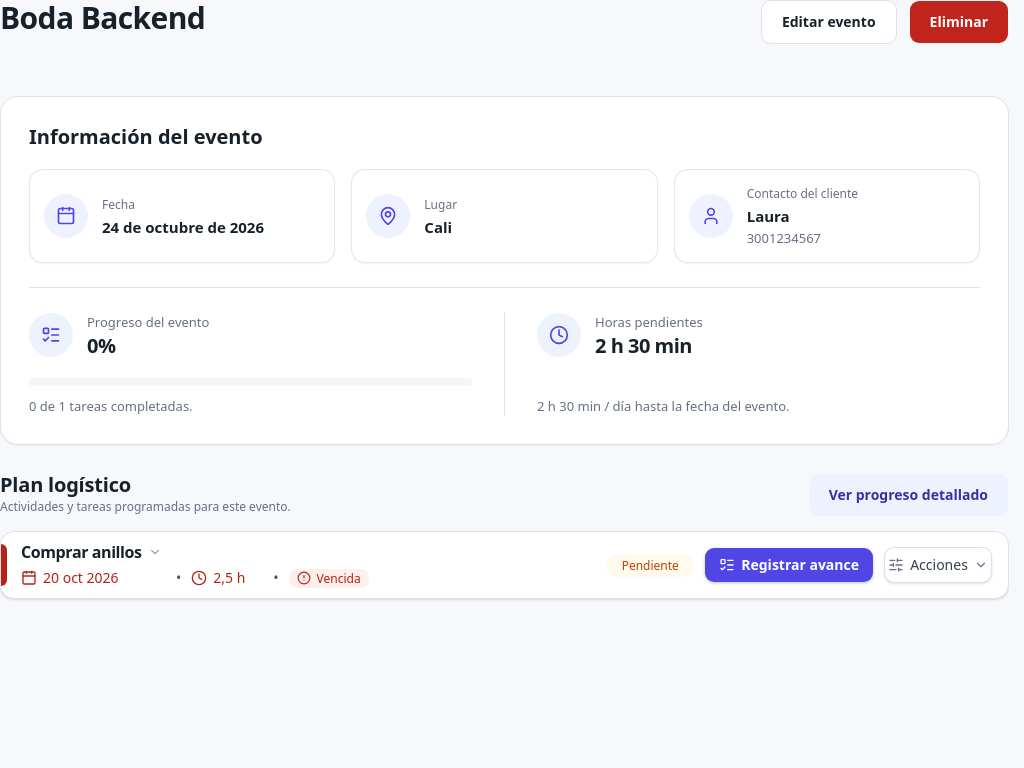
Scenario: EventDetailContent › abre el diálogo de Reprogramar desde el menú de acciones (CA-03)
Step 1. Click the button with aria-label "Más acciones para Comprar anillos" → (938, 565), box x1=884 y1=547 x2=992 y2=583
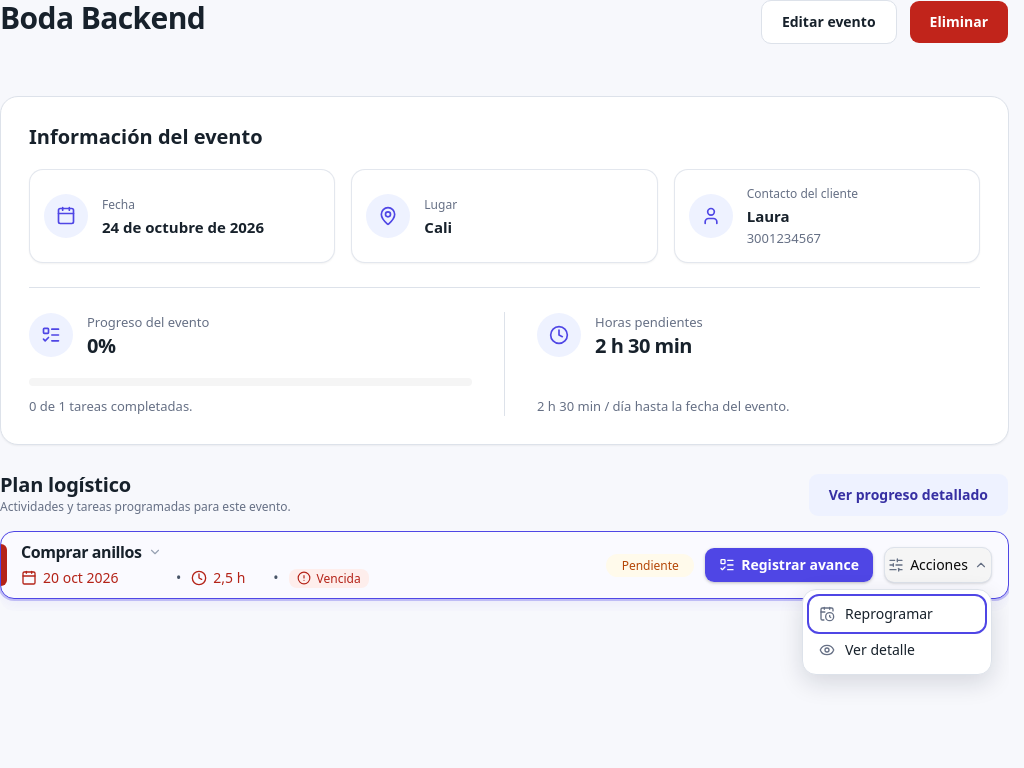
Step 2. Click the menu item with aria-label "Reprogramar Comprar anillos" → (897, 614), box x1=809 y1=596 x2=985 y2=632
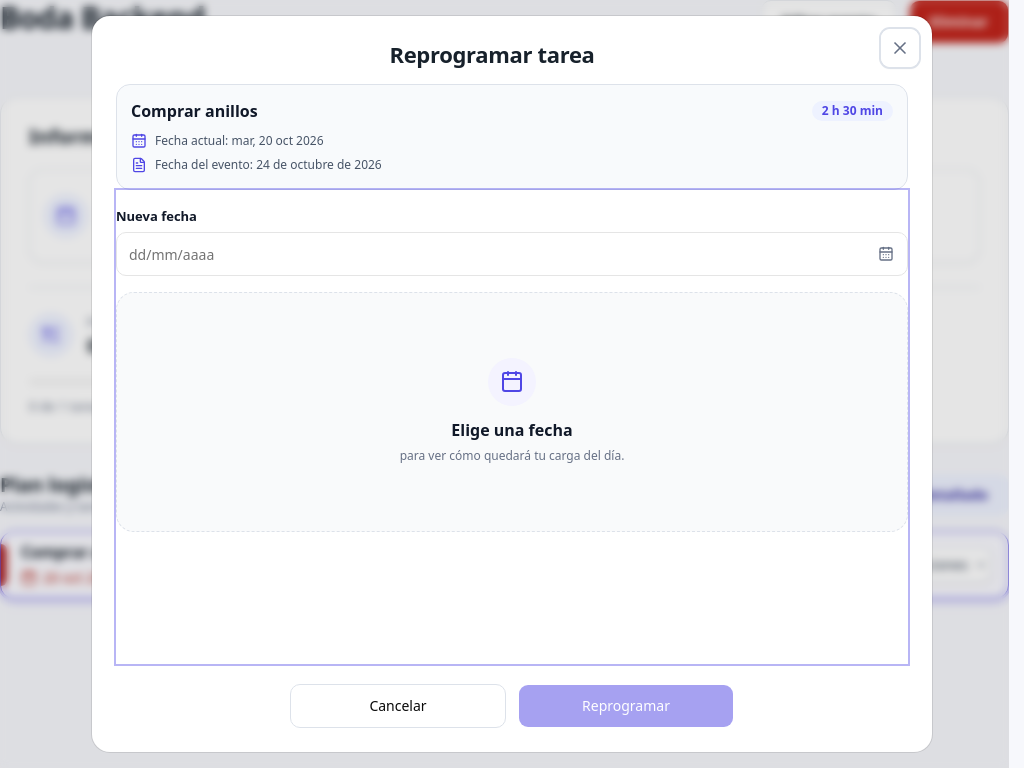
expect the heading "Reprogramar tarea" is shown: met, box x1=390 y1=39 x2=594 y2=69
